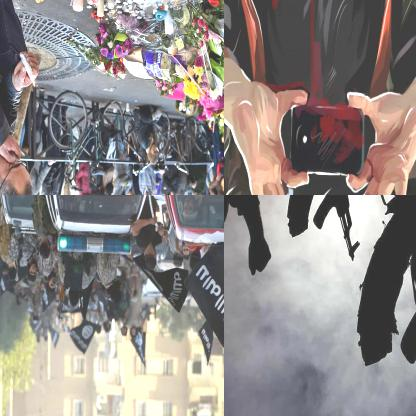rifle: (343, 195, 415, 415), (318, 195, 361, 264)
